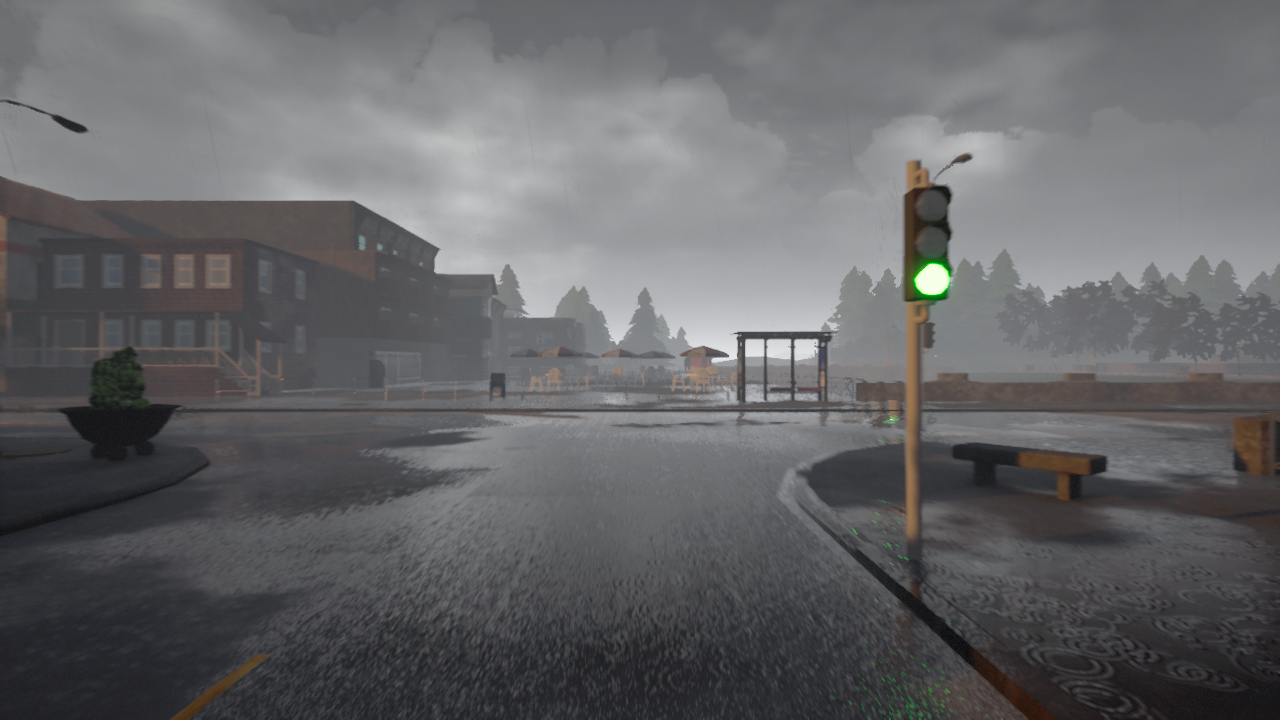green: (894, 184, 956, 306)
